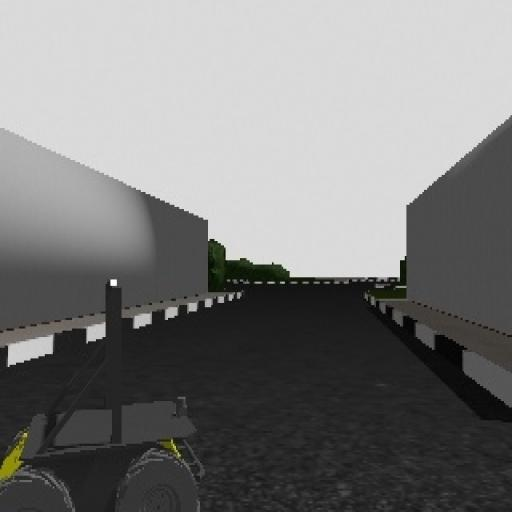huskya200: (1, 259, 229, 512)
